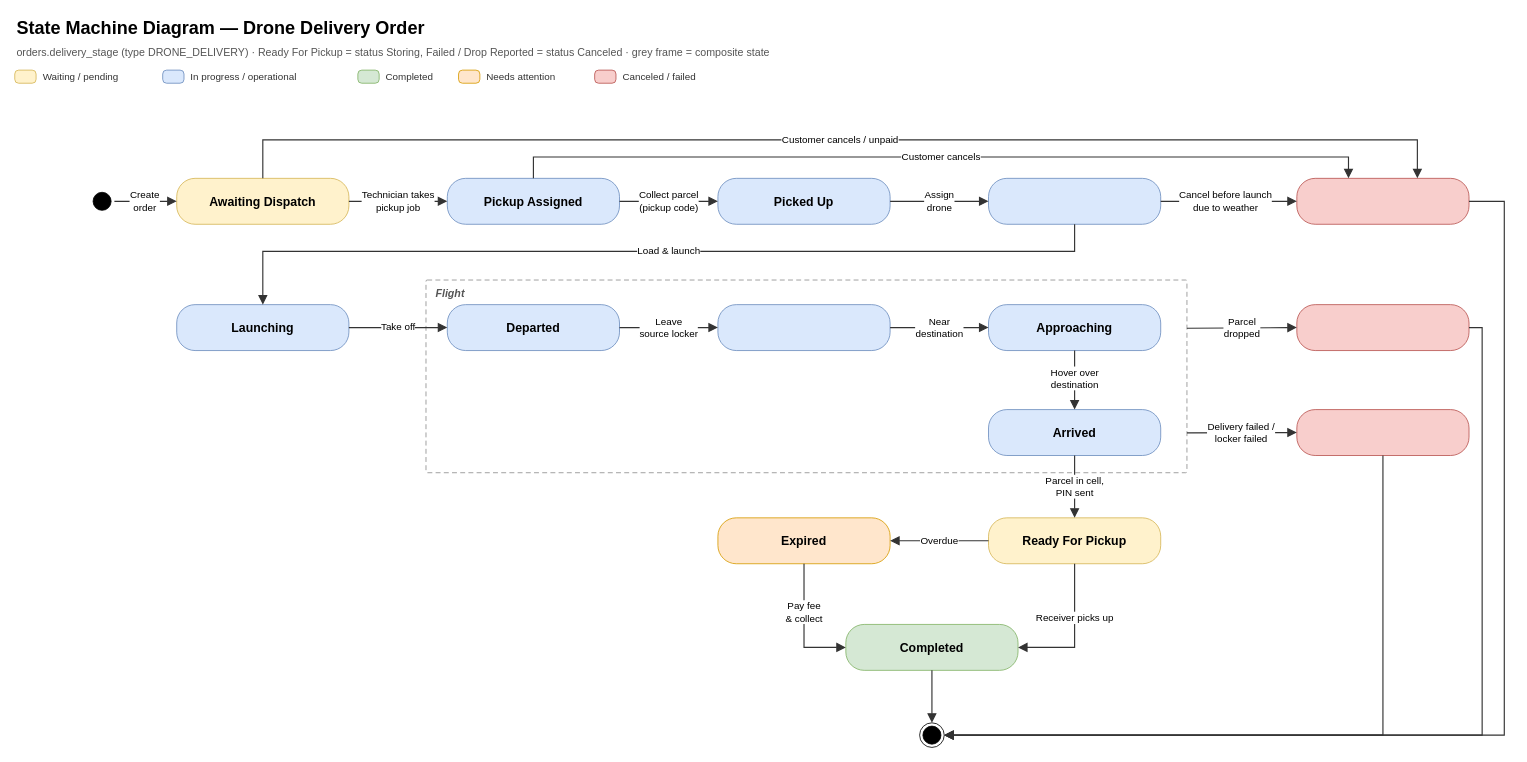
Image size: 1527x762. Some labels were removed from this diagram. The shapes that lost their labels are listed below. From the top down, each one's centre as x and y in pixels, then its label:
(x=1074, y=201): Accepted
(x=1382, y=201): Canceled
(x=803, y=327): En Route
(x=1382, y=327): Drop Reported
(x=1382, y=432): Failed
